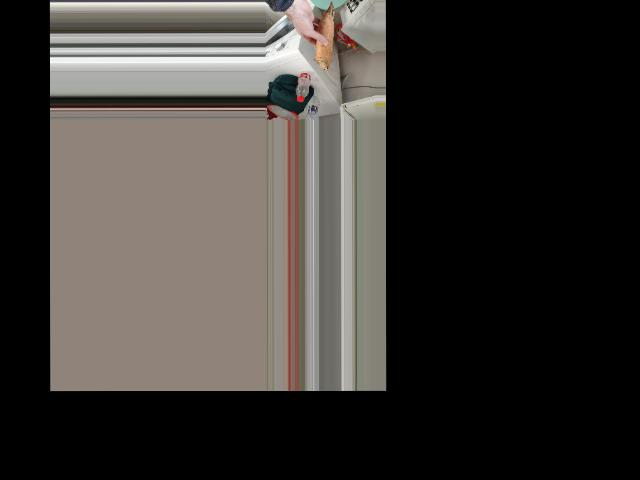sweet_potato: (313, 5, 331, 72)
